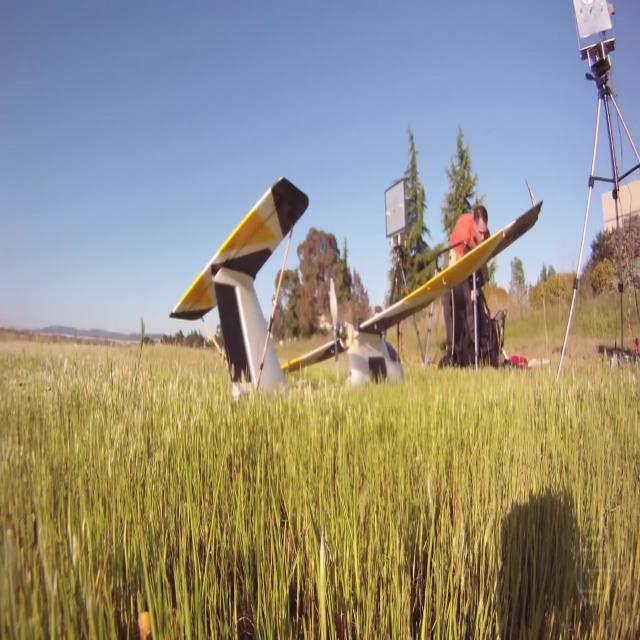iha: (169, 172, 544, 405)
